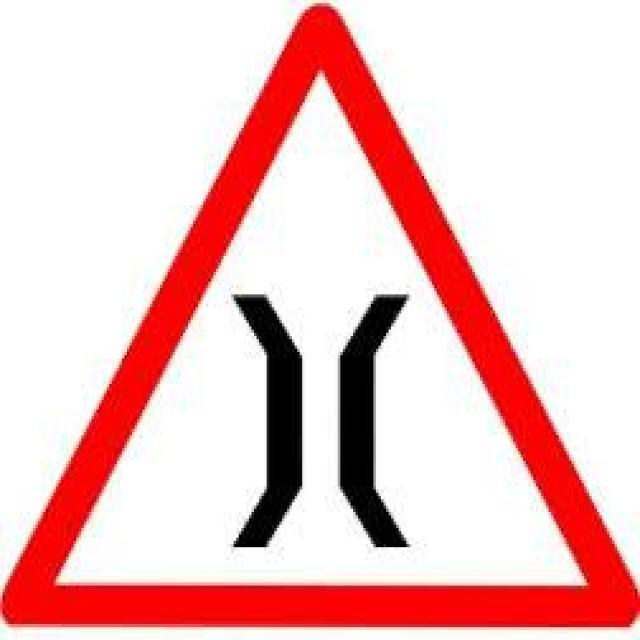narrow bridge ahead: (18, 14, 621, 617)
